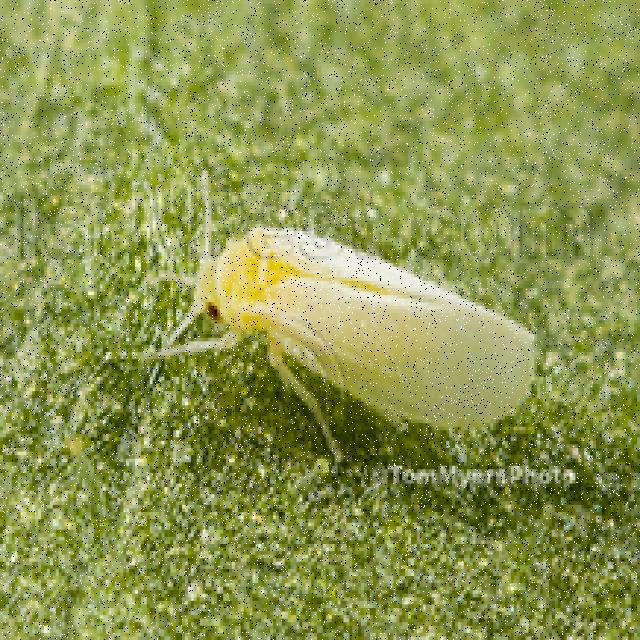Whiteflies: (124, 190, 594, 492)
